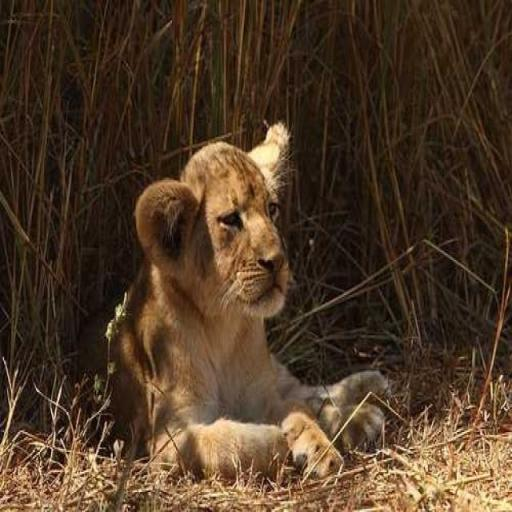Lion: (85, 120, 389, 482)
